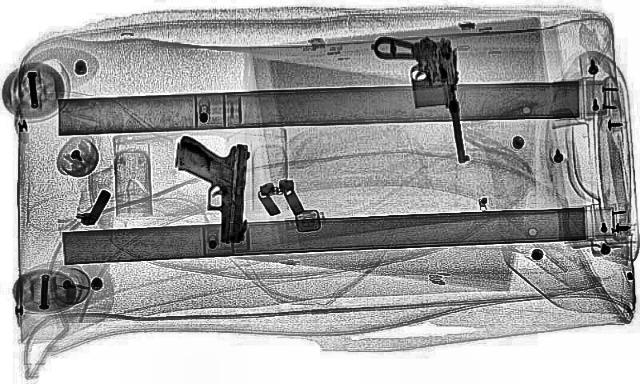Gun: (369, 31, 473, 164), (173, 135, 250, 243)
